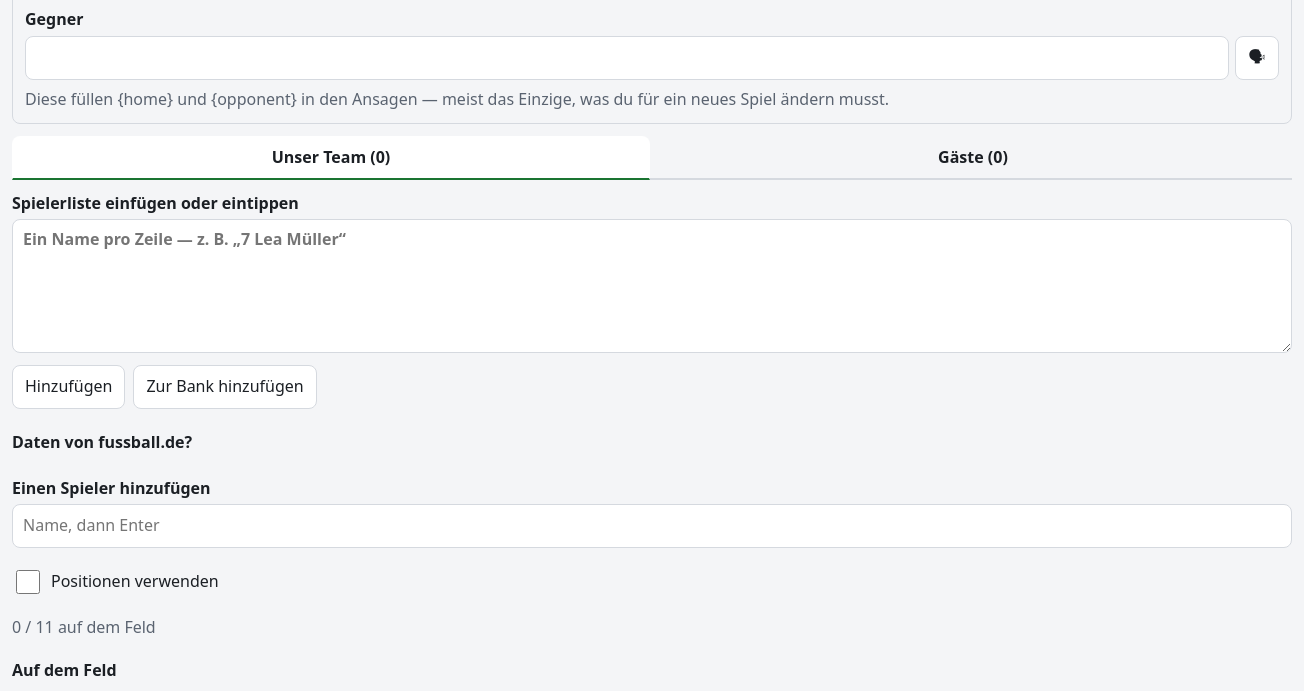
pasting the fussball.de fixture adds 5 players with positions and turns positions on
Click the text box labelled "Spielerliste einfügen oder eintippen".
click(652, 286)  # box left=12, top=219, right=1292, bottom=353
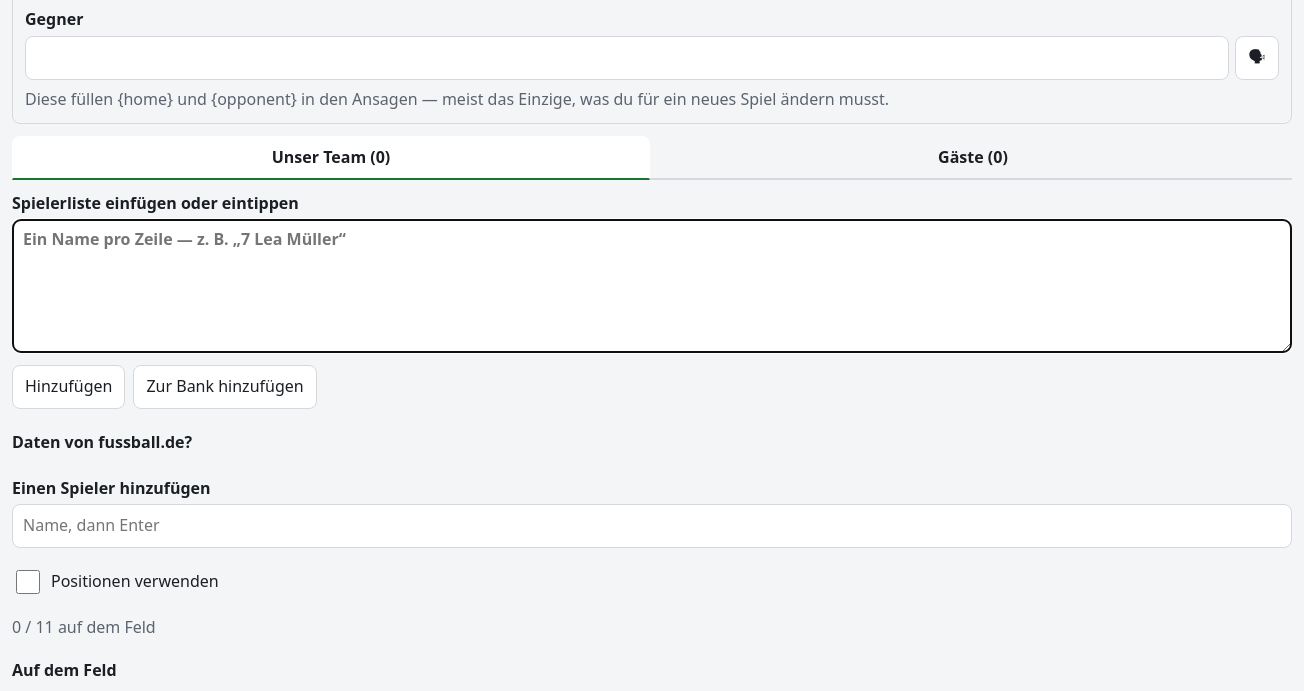
Type keys "Torwart 1 Müller, Lea Abwehr 4 Özdemir, Can 19 5 O'Neil, Zoë Mittelfeld 8 Nowak, Jan Angriff 9 Ferreira, José Trainer Schmidt, Klaus "
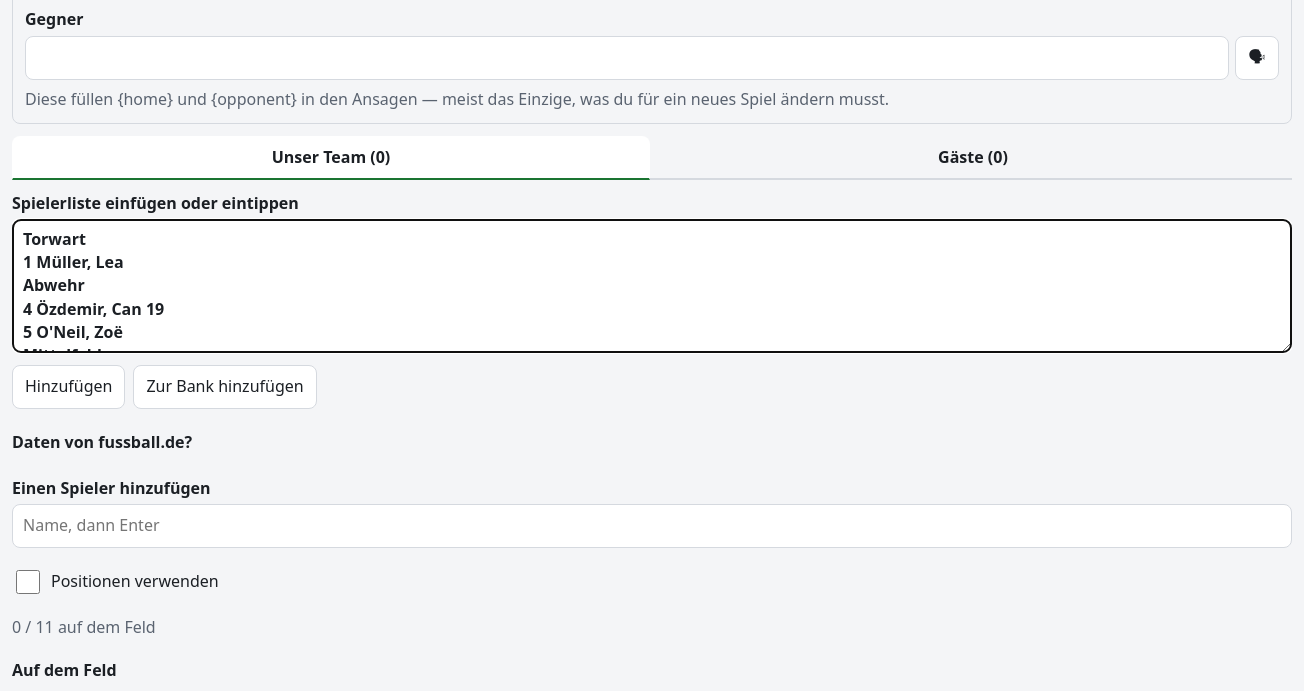
Click the button "Hinzufügen".
click(69, 387)  # box left=12, top=365, right=125, bottom=409
(page scrolled)
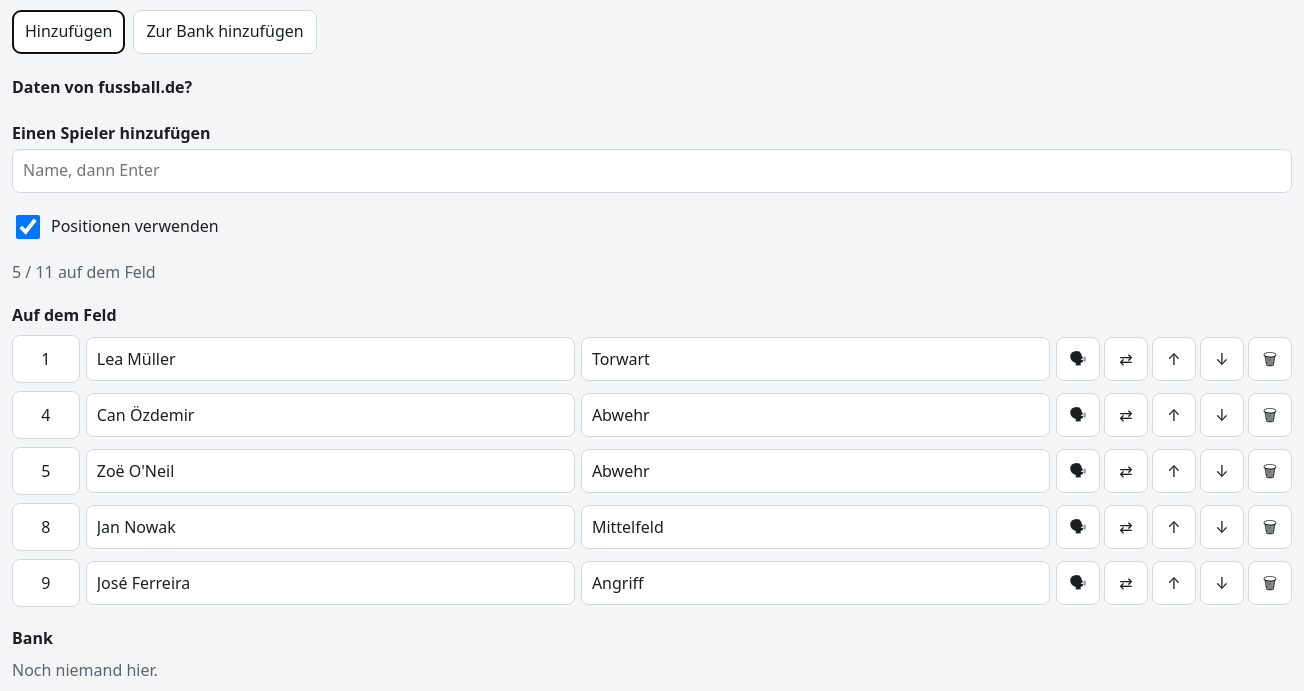
Now the number of fields named "Position: " is 5, box left=581, top=337, right=1050, bottom=381; left=581, top=393, right=1050, bottom=437; left=581, top=449, right=1050, bottom=493; left=581, top=505, right=1050, bottom=549; left=581, top=561, right=1050, bottom=605
Now the field showing "Lea Müller" is shown, box left=86, top=337, right=575, bottom=381
Now the field showing "Torwart" is shown, box left=581, top=337, right=1050, bottom=381
